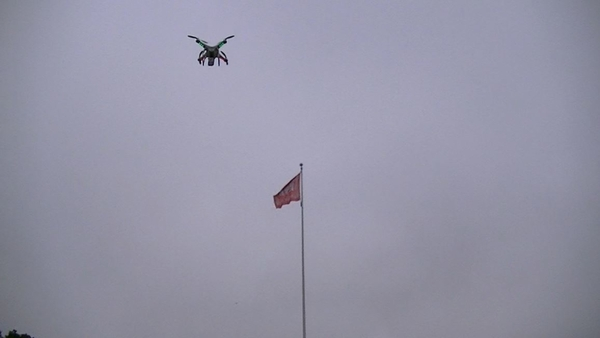drone: (185, 33, 238, 68)
